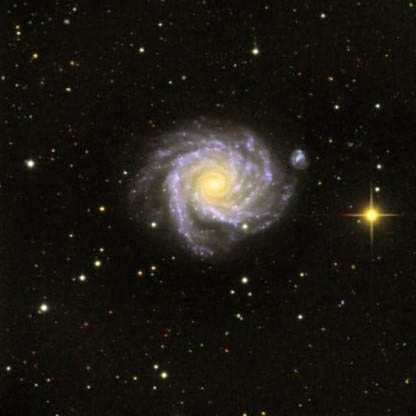NGC 1232: (116, 111, 324, 267)
